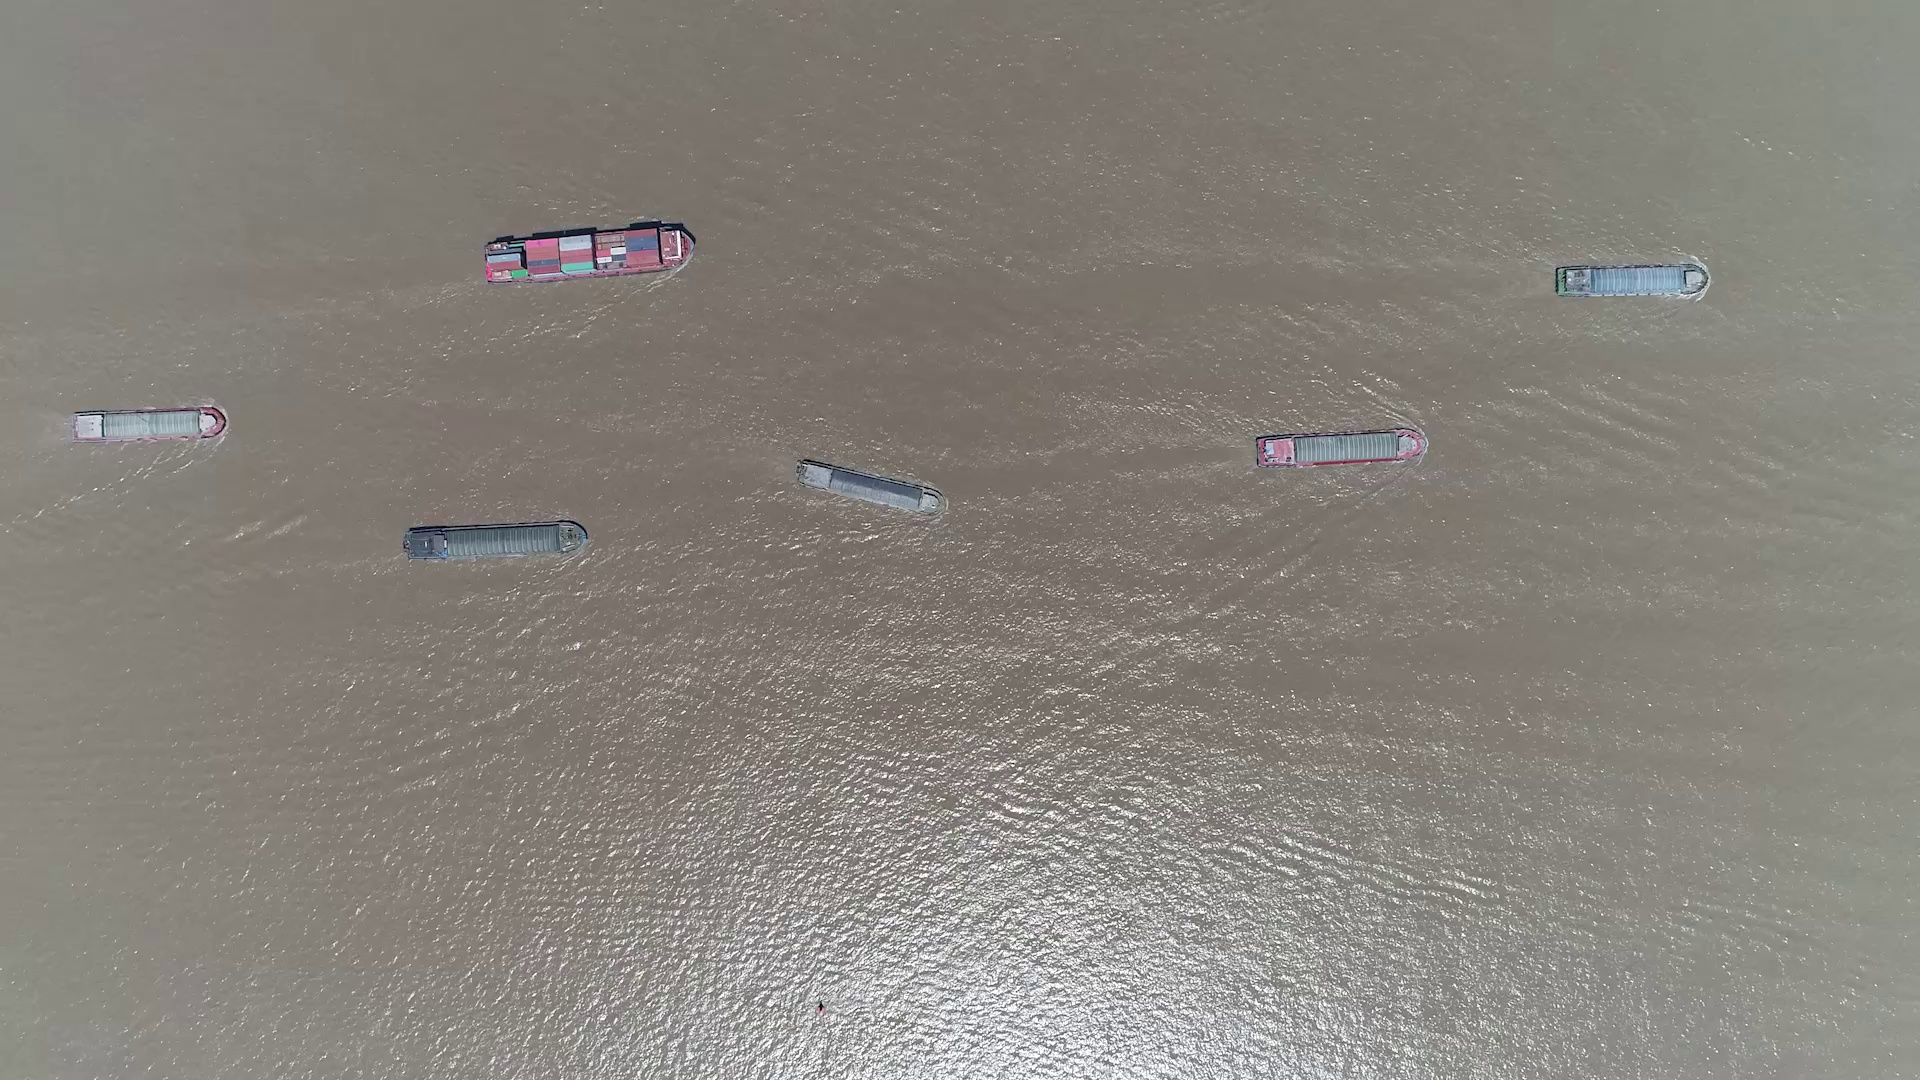ship: (485, 225, 695, 284), (795, 458, 942, 517), (405, 522, 585, 560), (1255, 430, 1425, 469), (69, 407, 225, 442), (1556, 265, 1704, 297)
